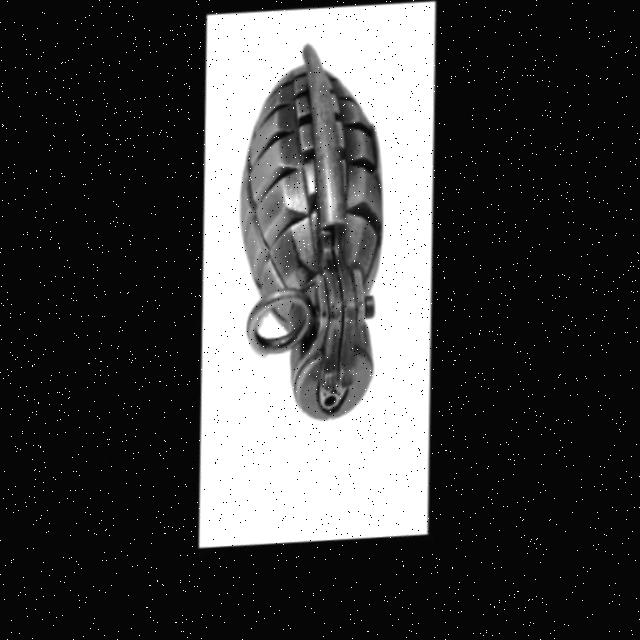grenade: (149, 20, 476, 483)
